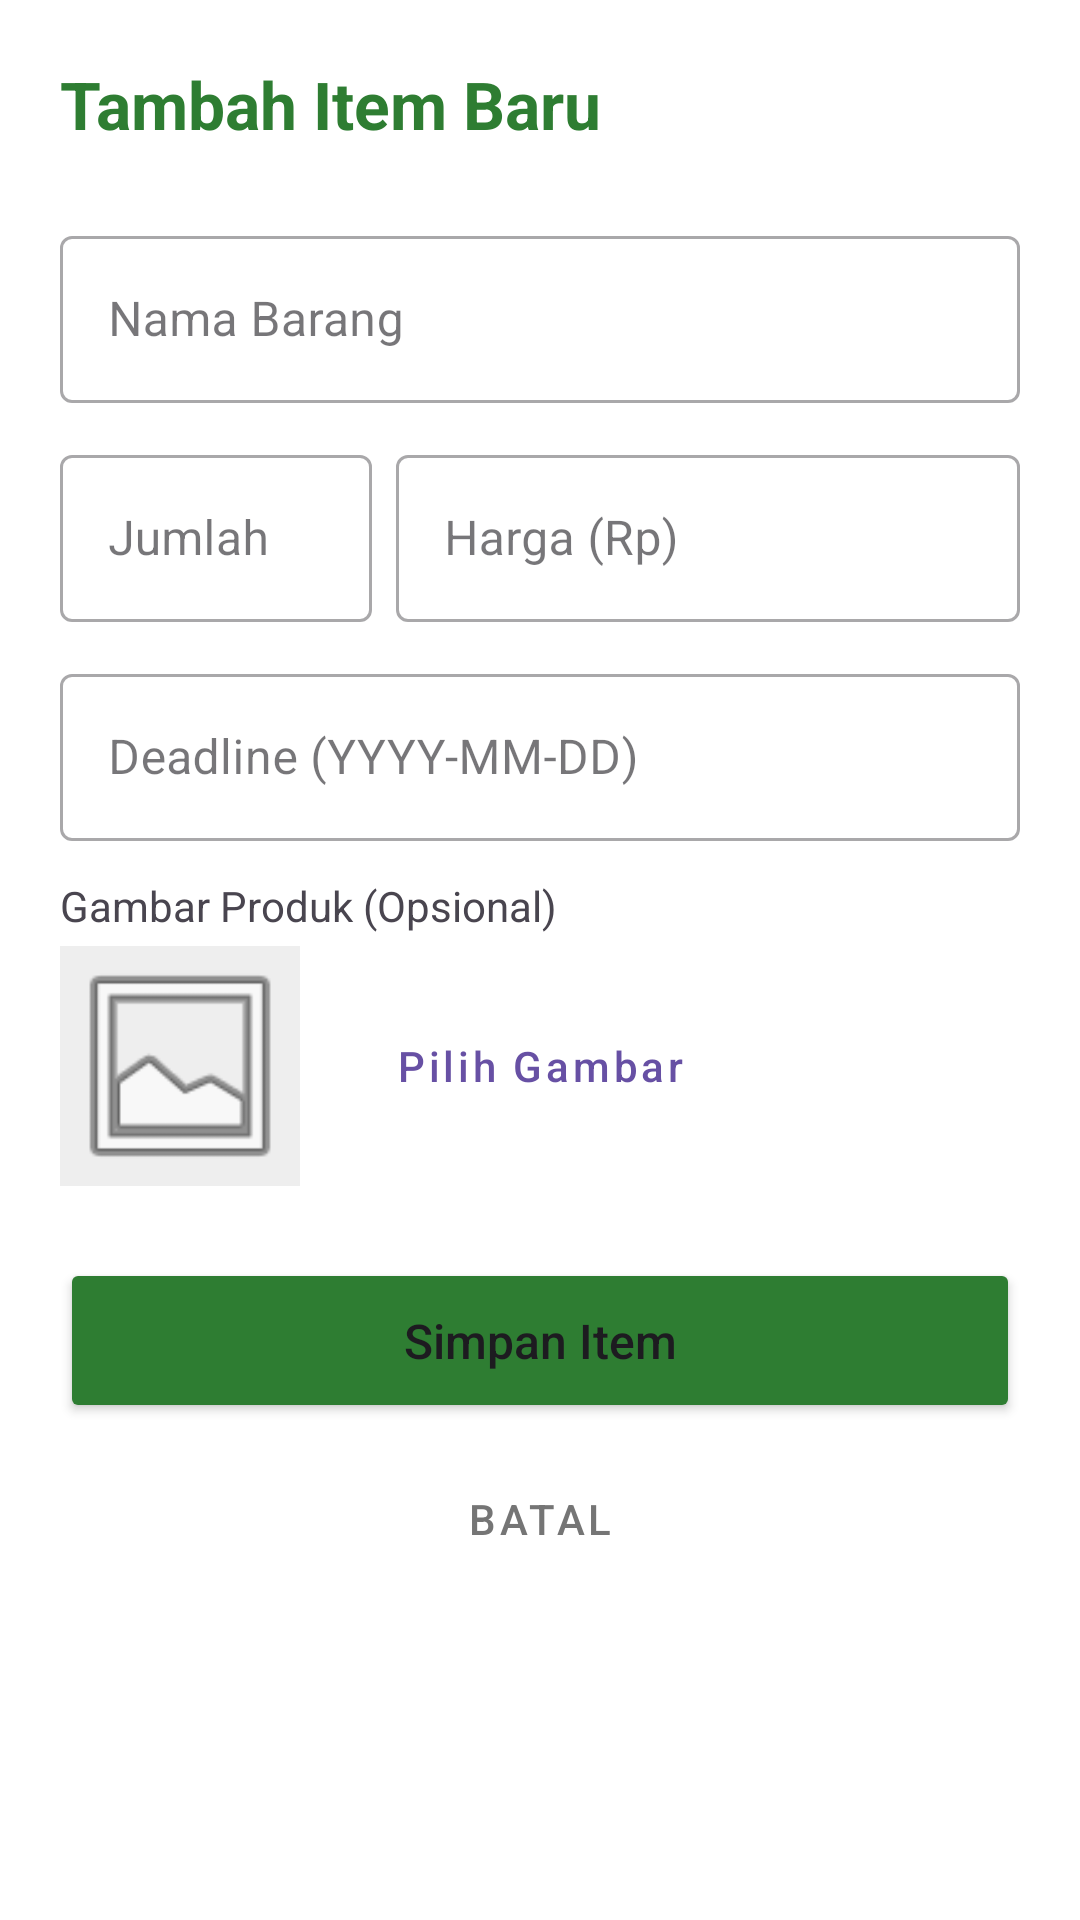

Icon click points for this 1080px×1920px phone screenshot, format [x,y]:
gallery: [180,1066]
